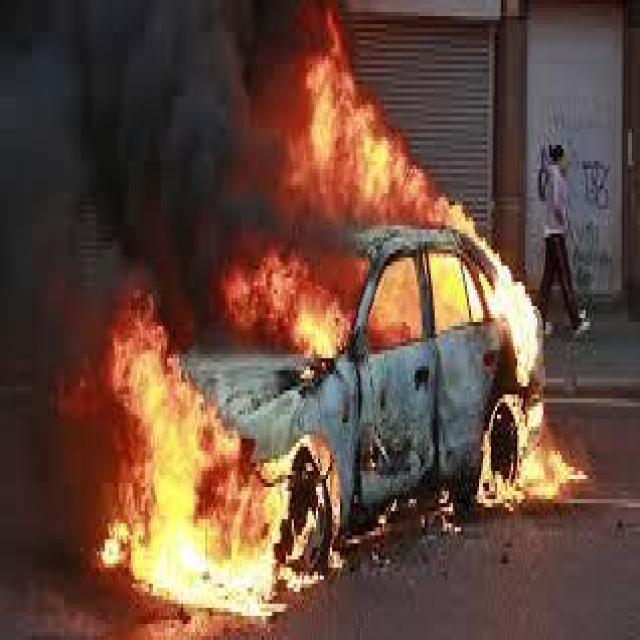Fire: (225, 0, 540, 356), (90, 290, 340, 614), (477, 390, 586, 516)
Smoke: (0, 0, 260, 278), (0, 271, 93, 618)
